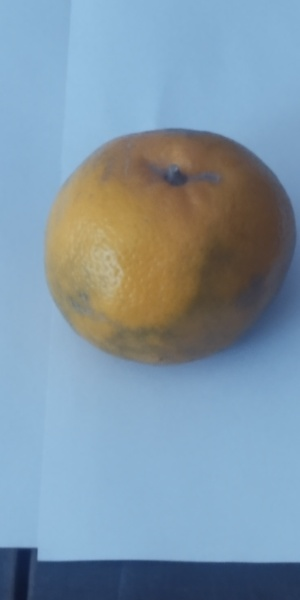BAD: (48, 129, 300, 369)
